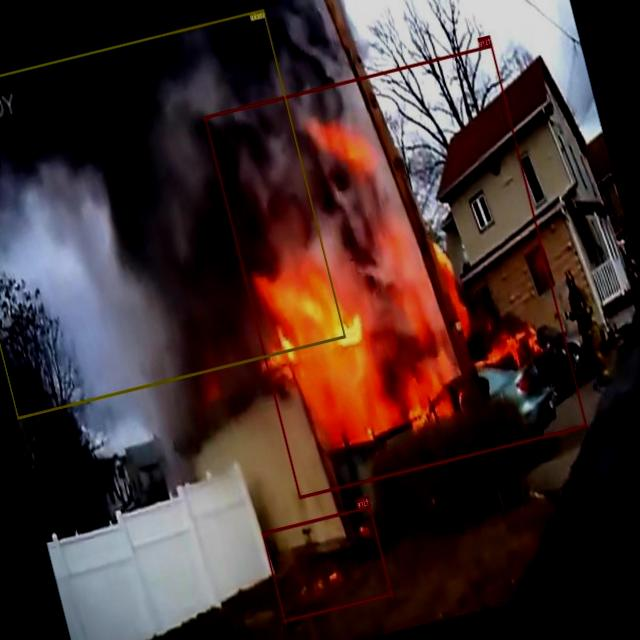fire: (204, 43, 587, 497), (262, 504, 392, 621)
smoke: (0, 7, 345, 418)
